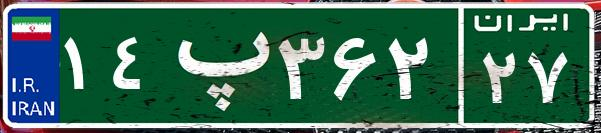1: (57, 26, 110, 107)
2: (385, 28, 445, 110), (475, 38, 525, 113)
3: (273, 28, 330, 110)
4: (110, 28, 158, 105)
6: (330, 28, 385, 110)
7: (525, 38, 570, 115)
پ: (158, 15, 273, 115)
